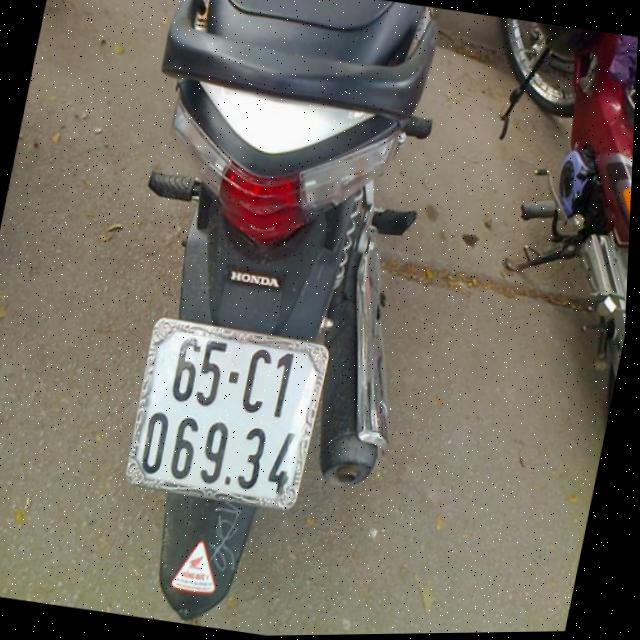motorcycle: (43, 0, 482, 639), (427, 16, 639, 429)
plate: (118, 306, 326, 509)
